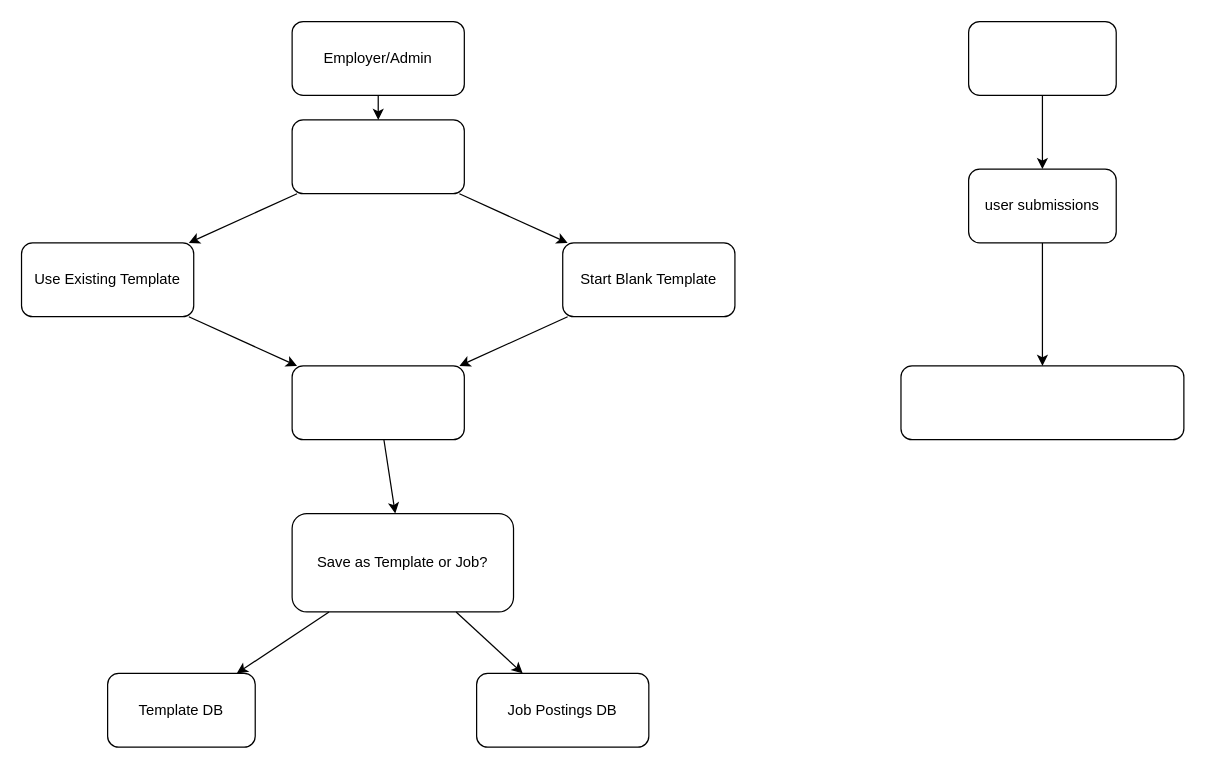
The diagram is 1205 pixels wide and 769 high, and some of its shapes have lost their labels. The centre of each missing label's shape, as x and y in pixels:
"Application / Application response DB" belongs at point 1042,402.
"Job Builder" belongs at point 377,156.
"Job posting" belongs at point 1041,57.
"Modify / Add Fields" belongs at point 377,402.
